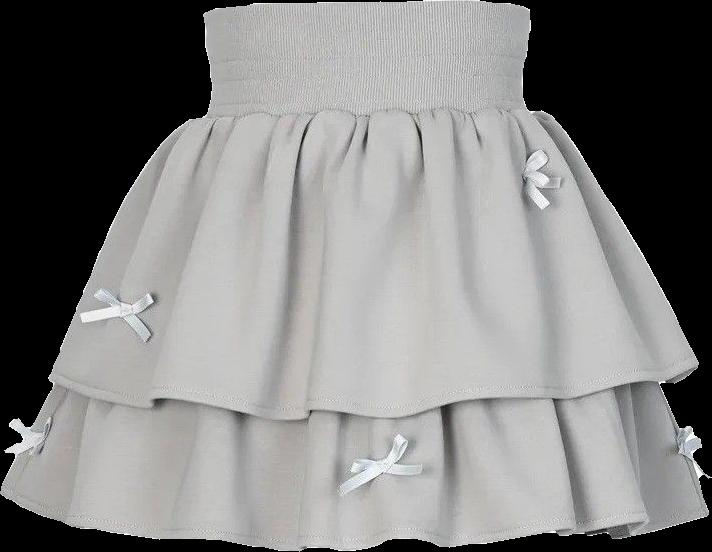Hemline: (0, 492, 711, 551), (47, 364, 699, 424)
Waistline: (201, 0, 533, 18), (202, 105, 532, 122)
